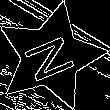N_NE: (19, 28, 82, 85)
